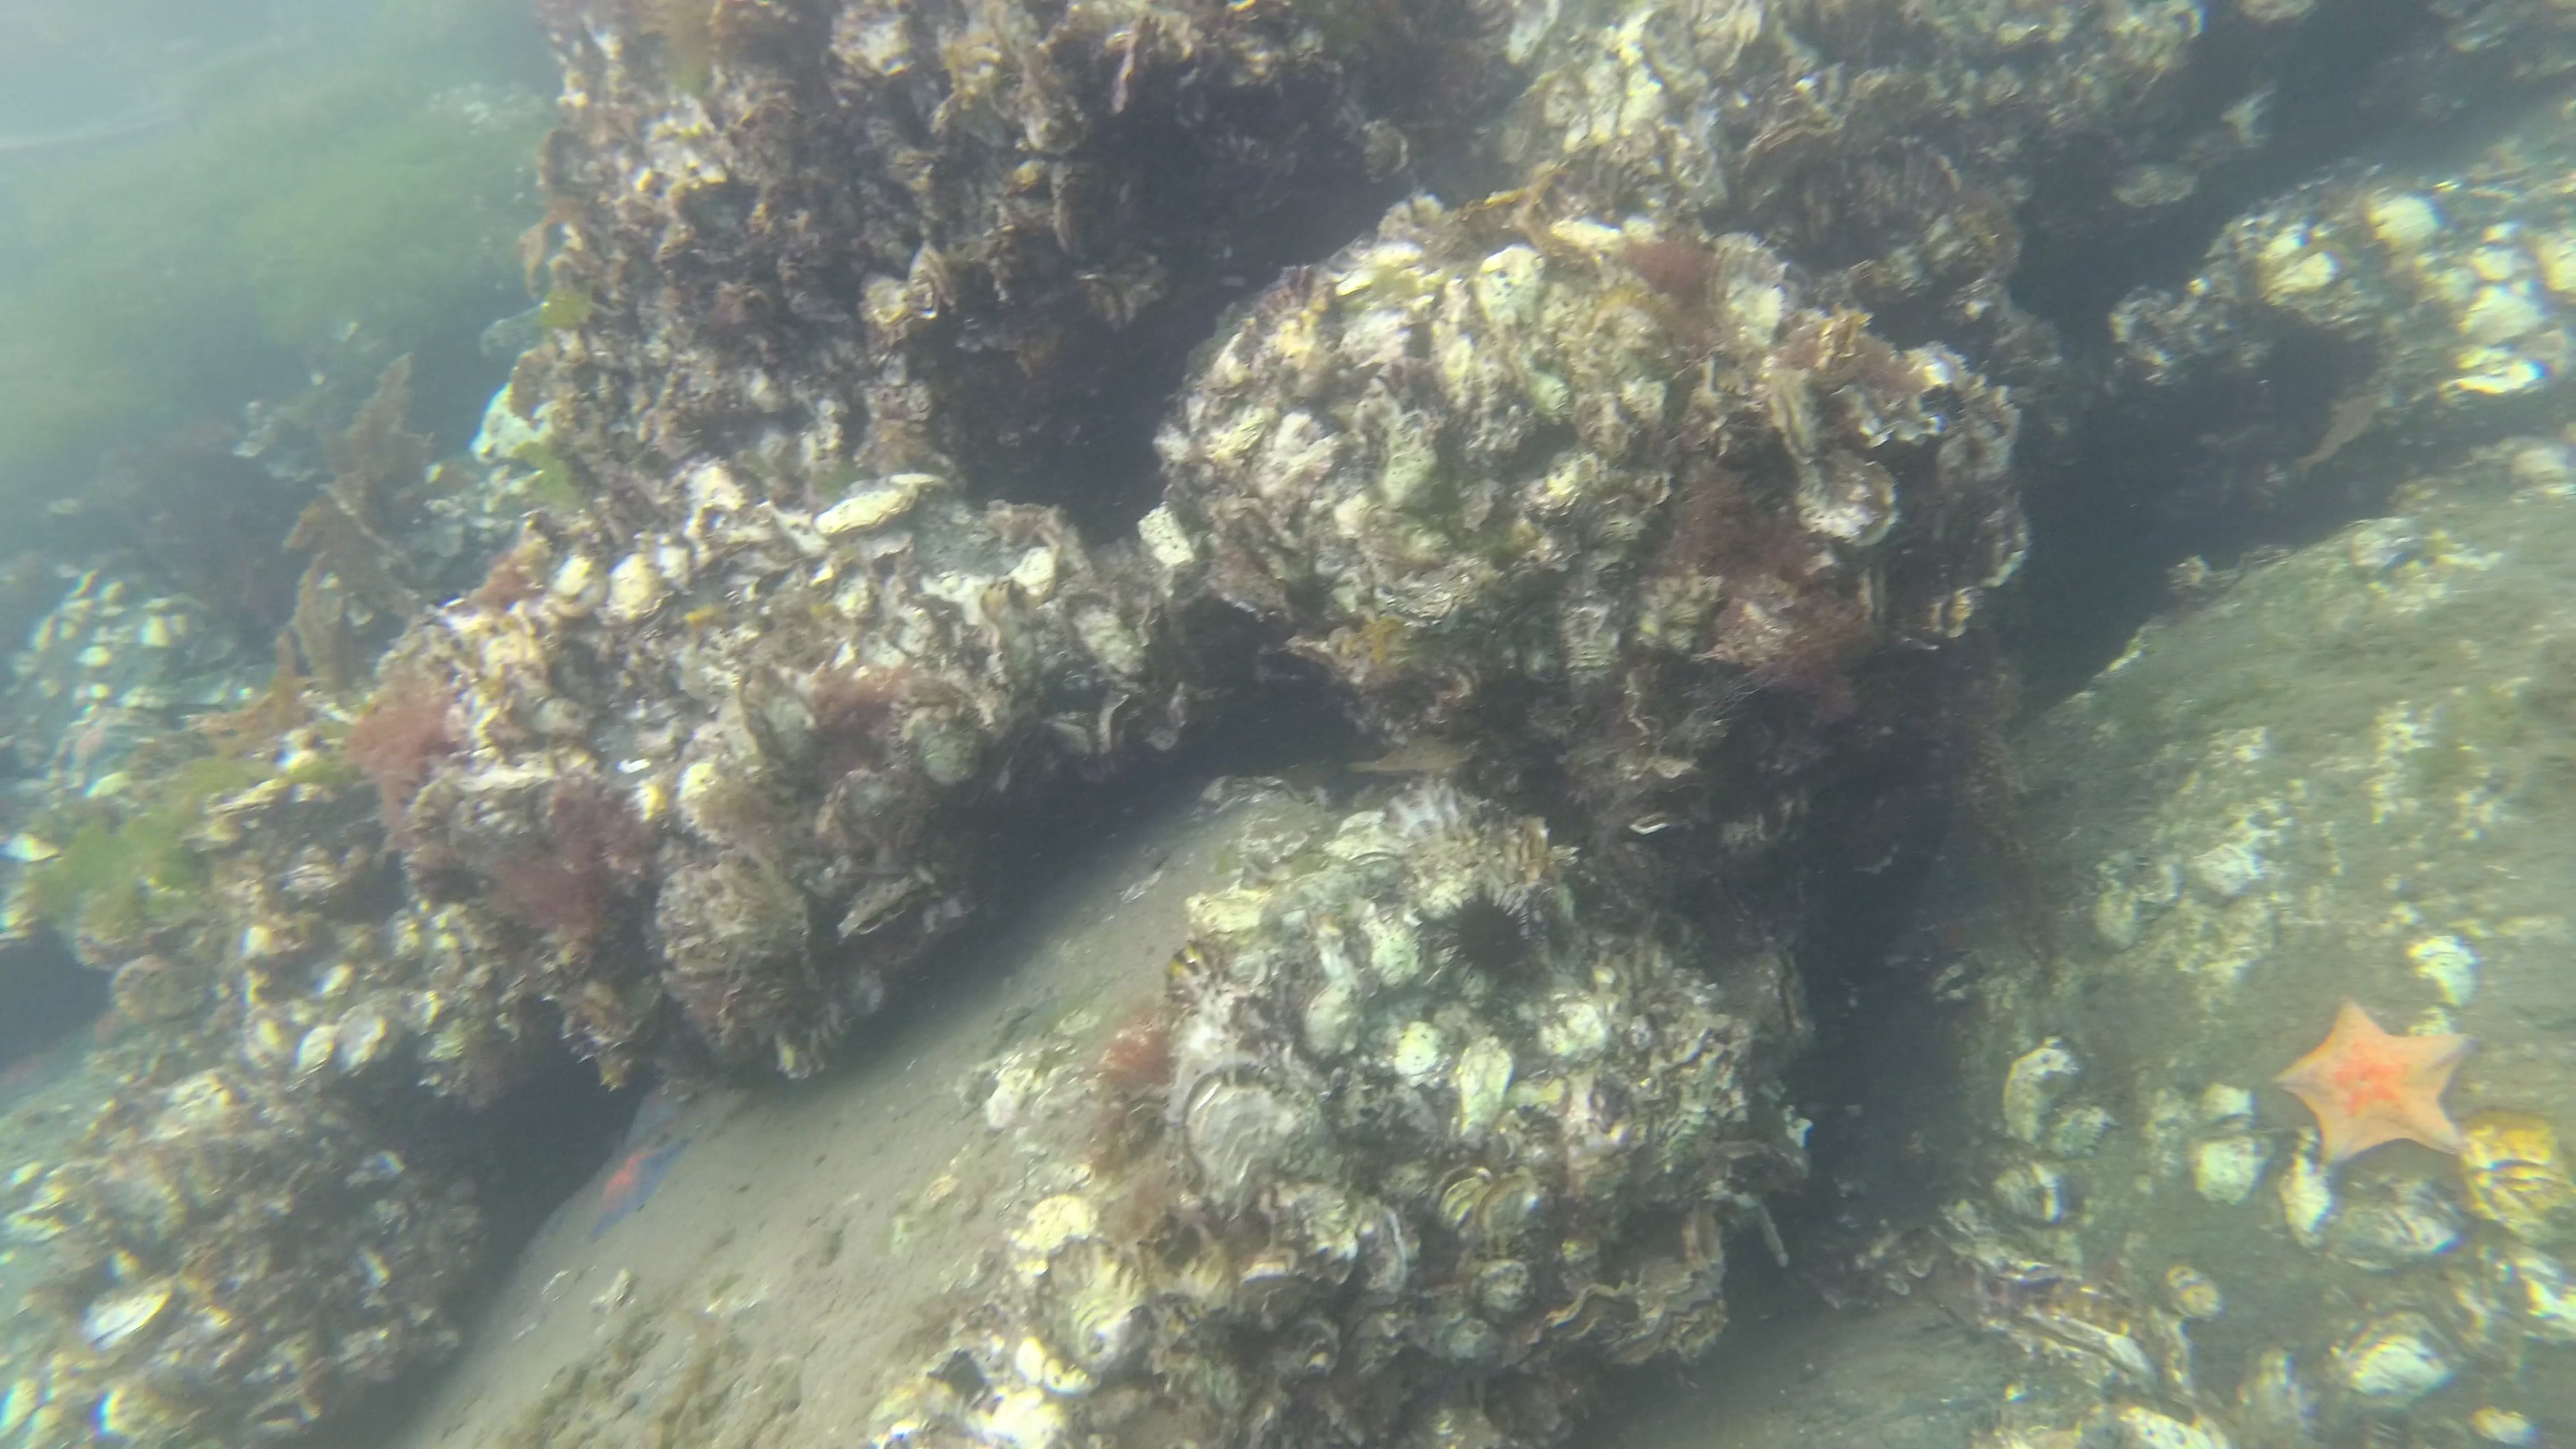echinus: (1426, 890, 1546, 991)
starfish: (2263, 1000, 2484, 1182), (589, 1145, 679, 1235)
